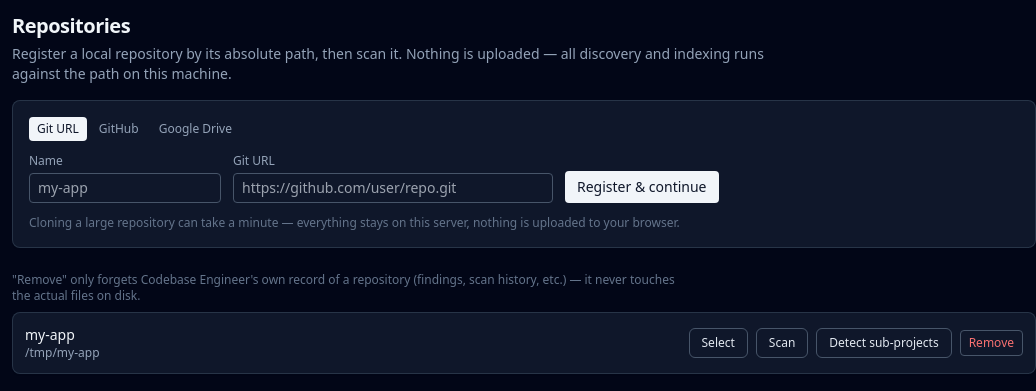
Test: RepositoriesPage › removes a repository after a confirm step, without touching real files (Task #94)
Expected: the text "my-app" is shown, 25,325 -> 75,344
Click the button "Remove" at [991, 343], box 960,330 -> 1023,356
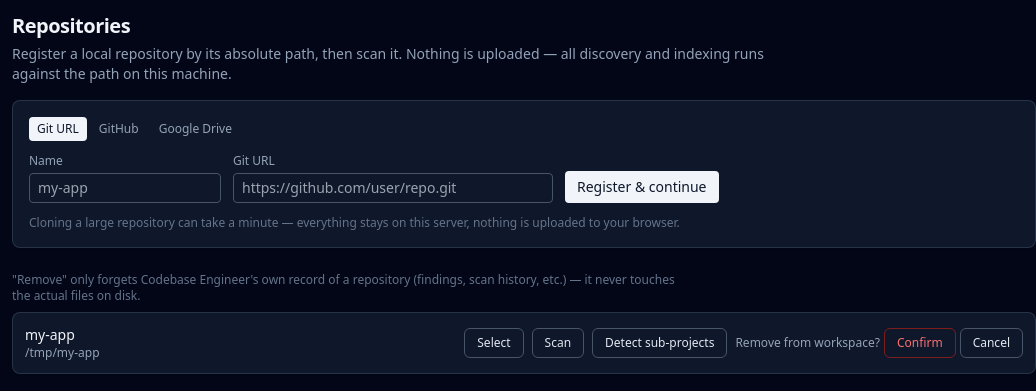
Expected: the text "Remove from workspace?" is shown, 735,335 -> 880,351
Click the button "Confirm" at [920, 343], box 884,328 -> 956,358
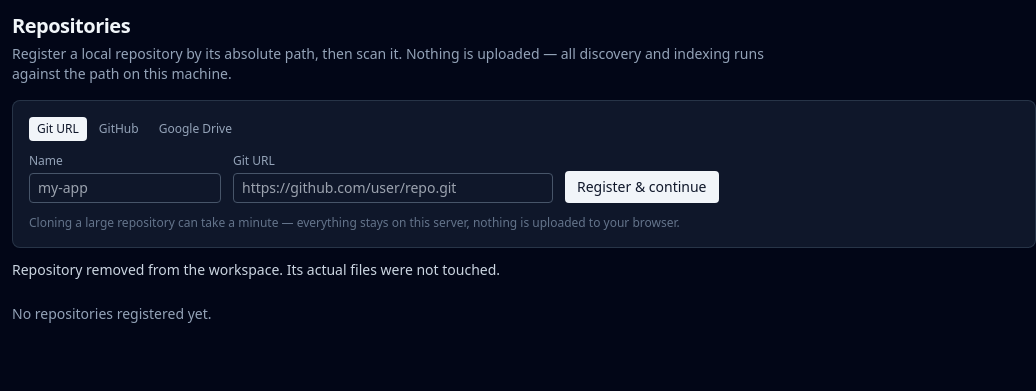
Expected: the text "Repository removed from the workspace. Its actual files were not touched." is shown, 12,260 -> 500,279
